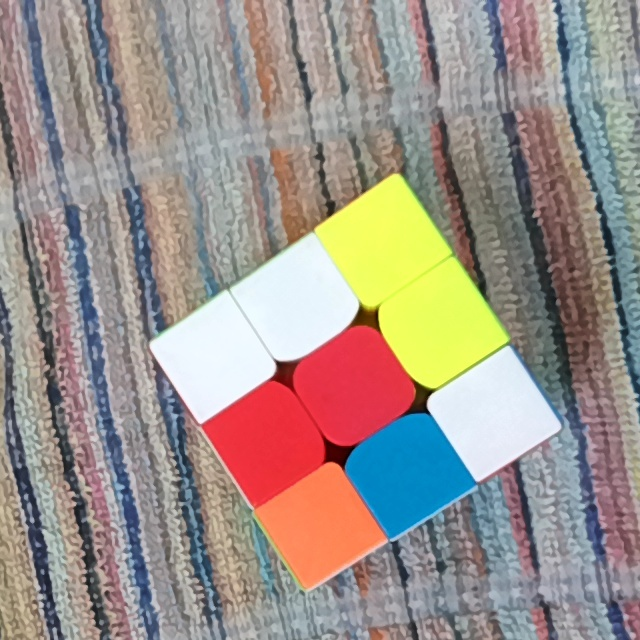tile: (371, 439, 446, 506), (409, 288, 479, 356), (322, 352, 391, 420), (288, 490, 353, 562), (347, 208, 414, 274), (462, 379, 529, 444), (239, 407, 303, 475), (267, 265, 329, 335), (185, 319, 243, 390)
